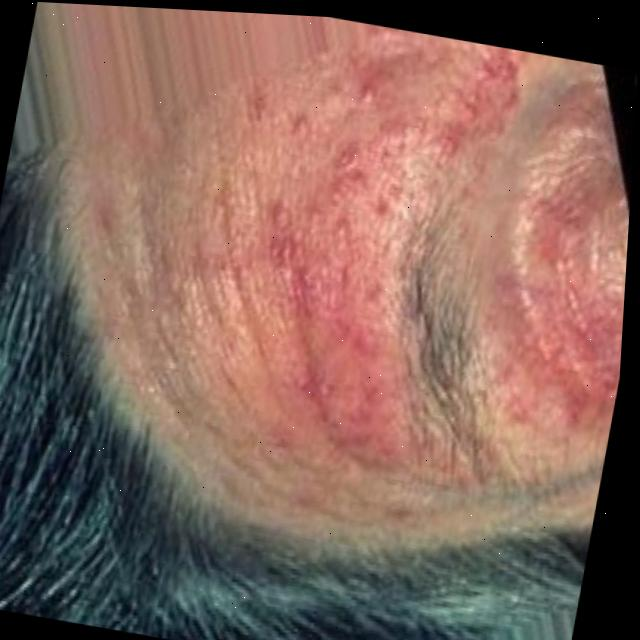Rosacea: (218, 102, 444, 437), (448, 171, 631, 452)
